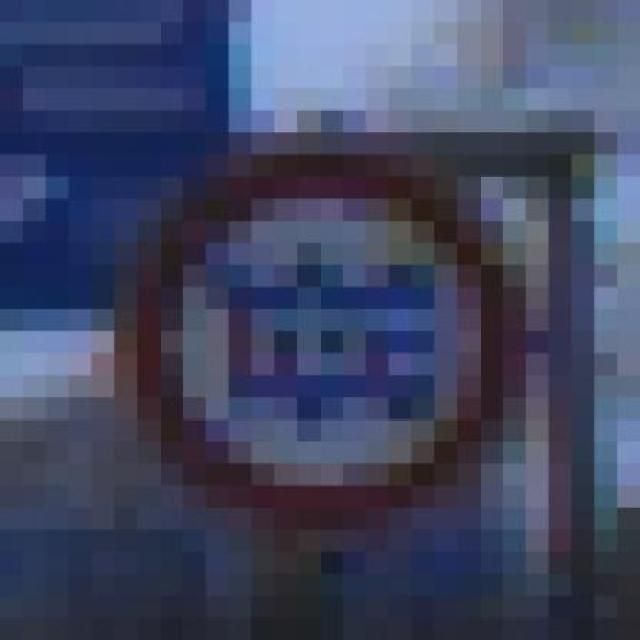forb_speed_over_100: (145, 162, 517, 513)
